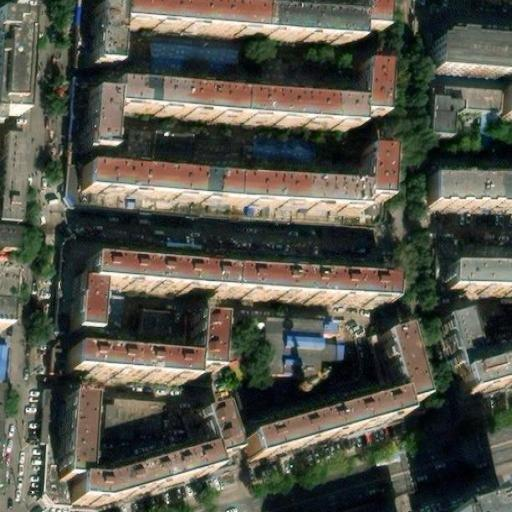building: (52, 239, 383, 331), (68, 400, 227, 498), (52, 292, 191, 372), (238, 386, 400, 454), (236, 369, 393, 431), (81, 156, 231, 200), (229, 164, 360, 207), (226, 268, 382, 304), (81, 259, 227, 295), (62, 79, 102, 207), (422, 14, 512, 67), (109, 77, 239, 112), (426, 89, 499, 151), (237, 85, 359, 119), (115, 0, 262, 28), (126, 129, 240, 164), (374, 316, 419, 398), (420, 174, 512, 211), (68, 350, 188, 378), (454, 347, 512, 397), (37, 442, 76, 512), (270, 52, 352, 85), (149, 46, 238, 76), (74, 0, 107, 69), (436, 306, 473, 367), (54, 390, 81, 473), (251, 136, 315, 166), (442, 266, 512, 290), (89, 1, 116, 61), (187, 312, 214, 371), (84, 86, 110, 146), (358, 143, 387, 195), (275, 366, 317, 400), (358, 58, 383, 111), (317, 348, 357, 379), (70, 281, 95, 327), (40, 390, 59, 443), (281, 346, 318, 363), (0, 238, 19, 262)
